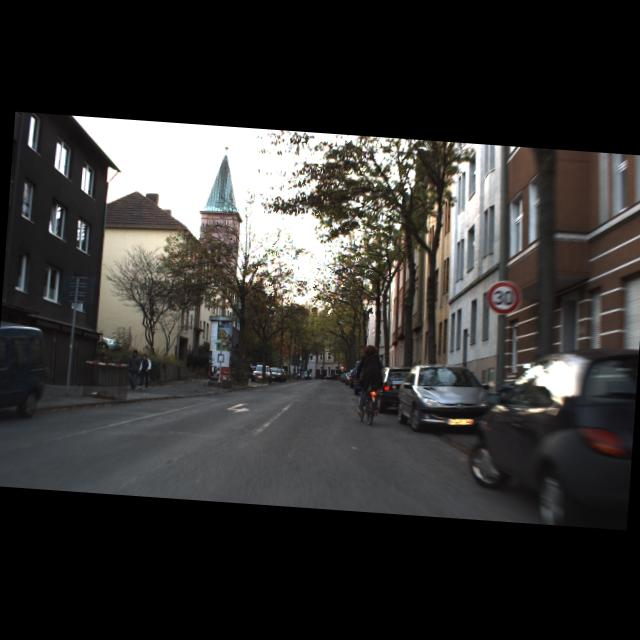prohibitory: (486, 279, 520, 314)
